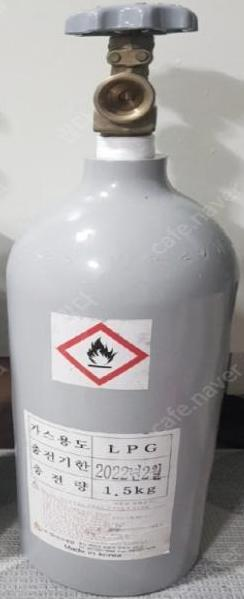cylinder: (0, 1, 244, 599)
